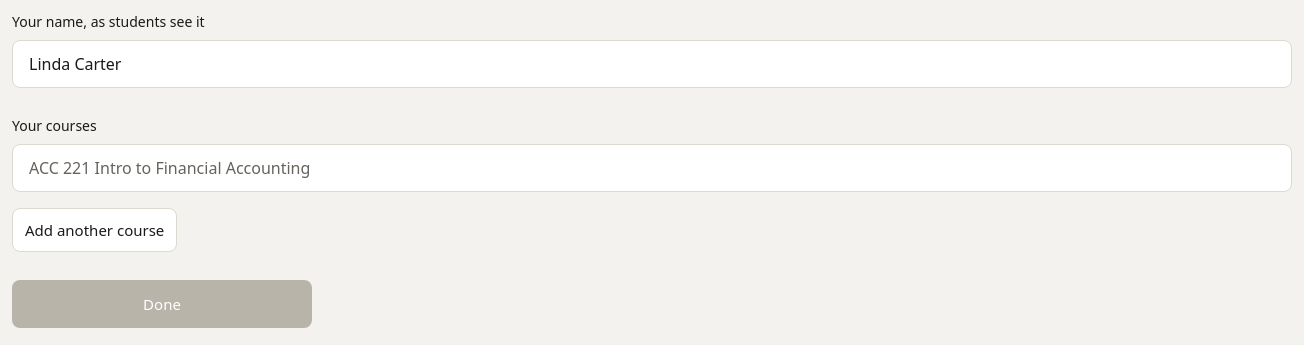
Scenario: SetupForm › starts with the name from Google, which the teacher can change
Expected: the field labelled "Your name, as students see it" holds "Linda Carter", [12,40,1292,88]
Expected: the element "Your courses" is shown, [12,116,1292,252]
Step 1. Type "ACC 221" into the field named "Course" → (652, 168), box [12,144,1292,192]
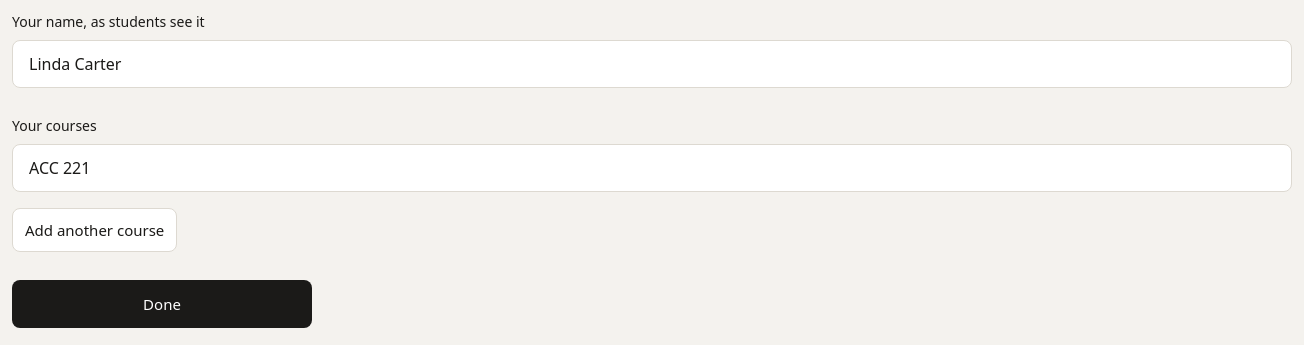
Now the button "Done" is enabled, box [12,280,312,328]
Step 2. Clear the field labelled "Your name, as students see it" → (652, 64), box [12,40,1292,88]
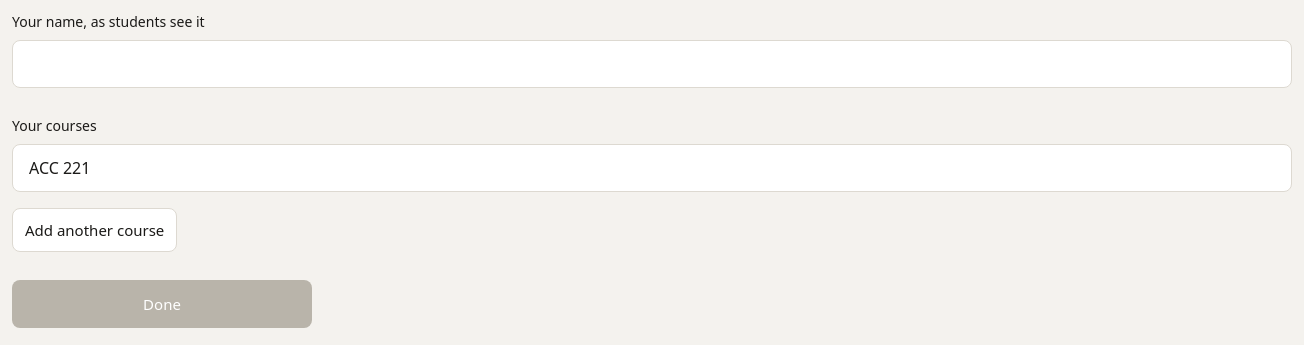
Now the button "Done" is disabled, box [12,280,312,328]
